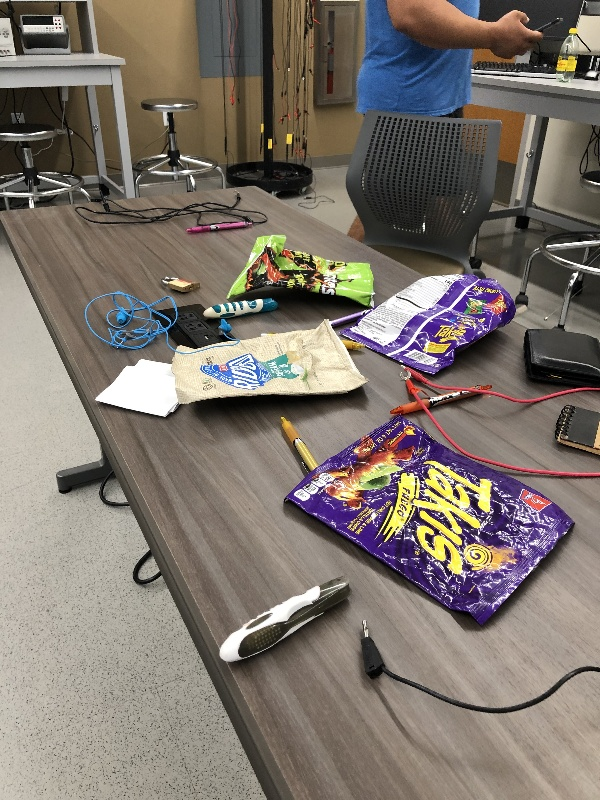bag: (281, 416, 580, 634), (172, 313, 372, 411), (338, 270, 520, 377), (219, 232, 385, 311)
